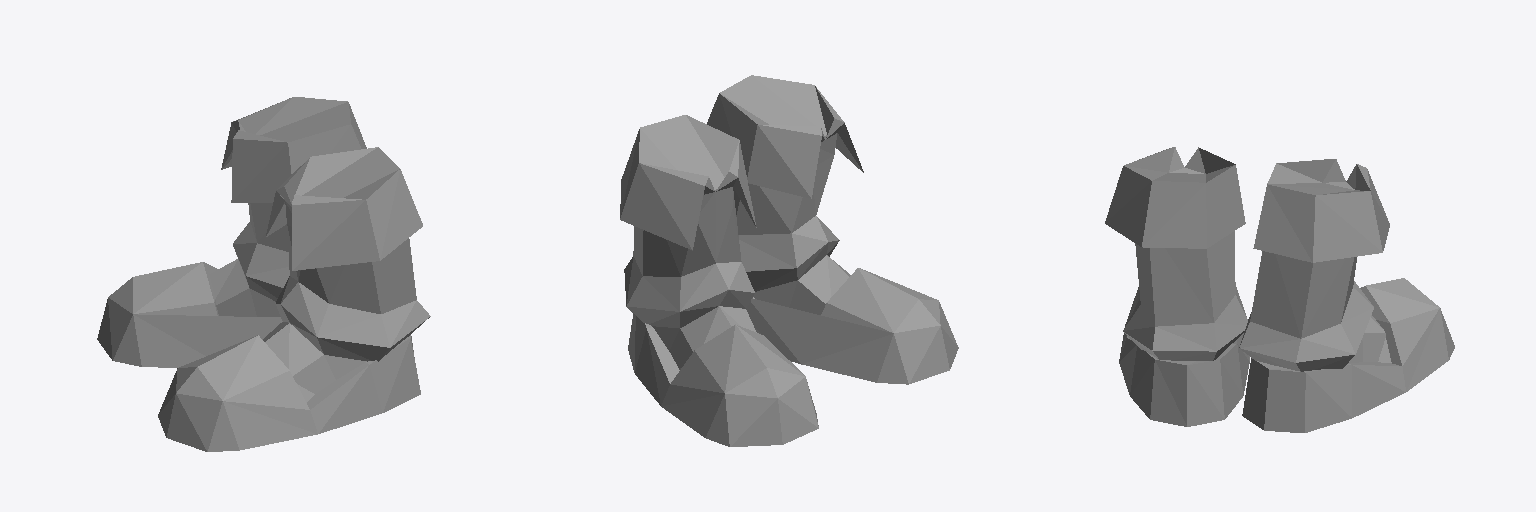
Rendered from speed_item.obj.
3 renders of one model, left to right at view 1: azimuth 30°, elevation 25°; view 2: azimuth 150°, elevation 25°; view 3: azimuth 270°, elevation 25°, orthographic.
Visible parts, largest first — view 1: ironboots_leather_geom-02A45BDB; view 2: ironboots_leather_geom-02A45BDB; view 3: ironboots_leather_geom-02A45BDB.
Boxes of the visible parts, <box> form: ironboots_leather_geom-02A45BDB: <box>97,97,430,451</box>; ironboots_leather_geom-02A45BDB: <box>620,75,958,446</box>; ironboots_leather_geom-02A45BDB: <box>1105,147,1454,432</box>.
Bounding box in the file's own units: 0.7107 × 0.5753 × 0.7946.